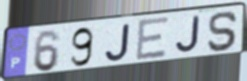6: (31, 29, 62, 74)
9: (69, 26, 95, 68)
E: (135, 16, 171, 63)
J: (103, 22, 131, 63), (174, 15, 201, 55)
S: (206, 10, 239, 53)
